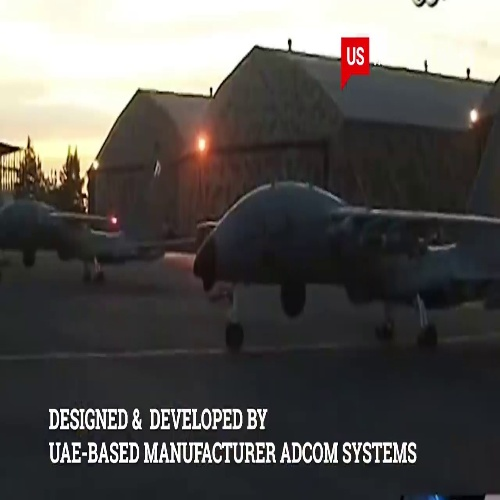uav: (169, 170, 500, 355)
